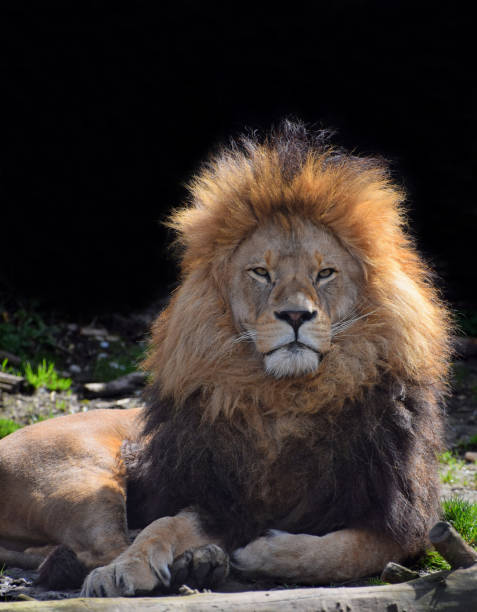lion: (122, 113, 442, 535)
